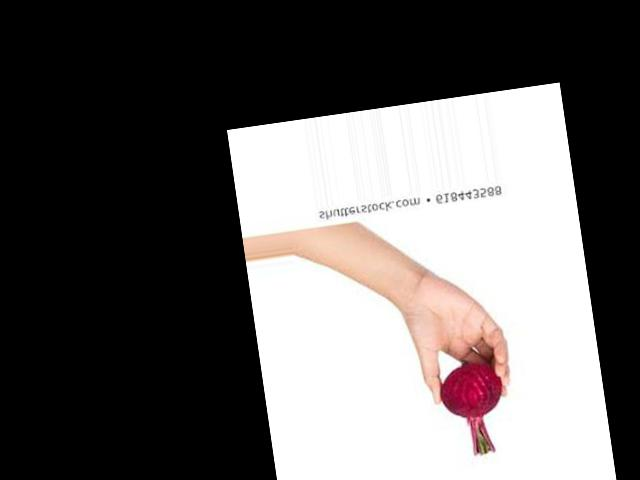beet: (437, 360, 512, 459)
